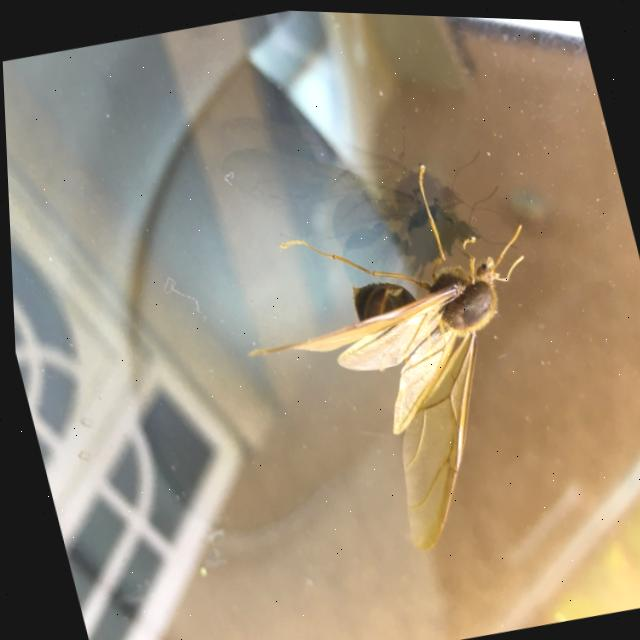Alive-Male-Alate: (206, 134, 596, 581)
